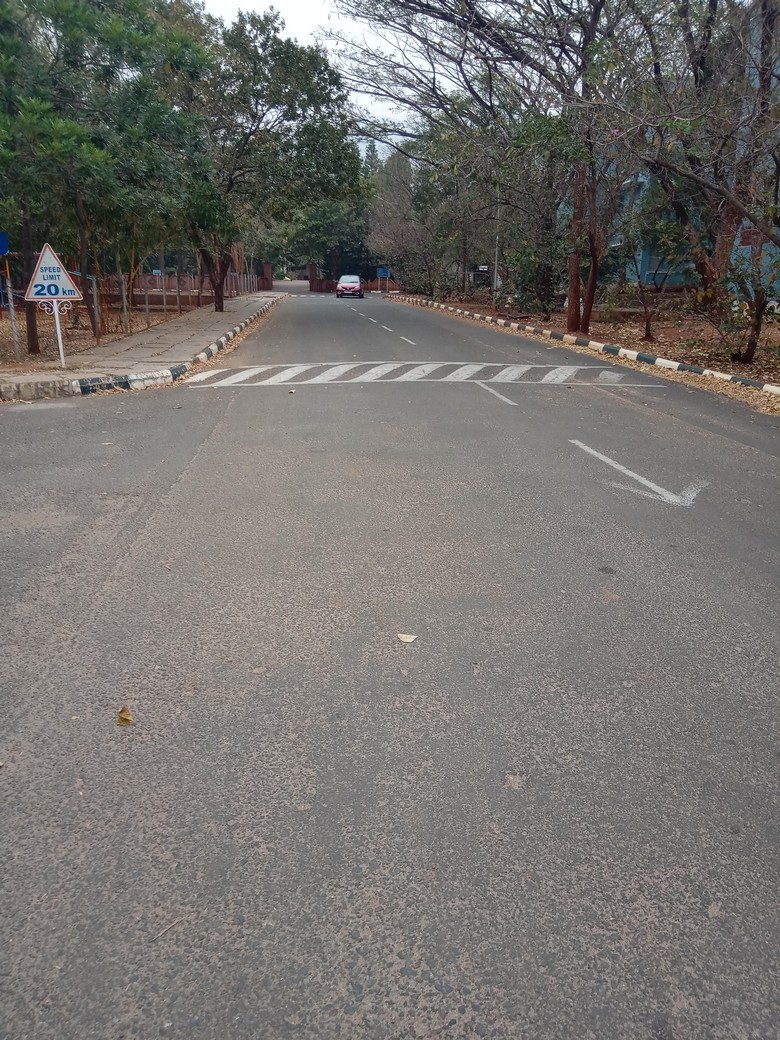bump: (195, 362, 673, 389)
